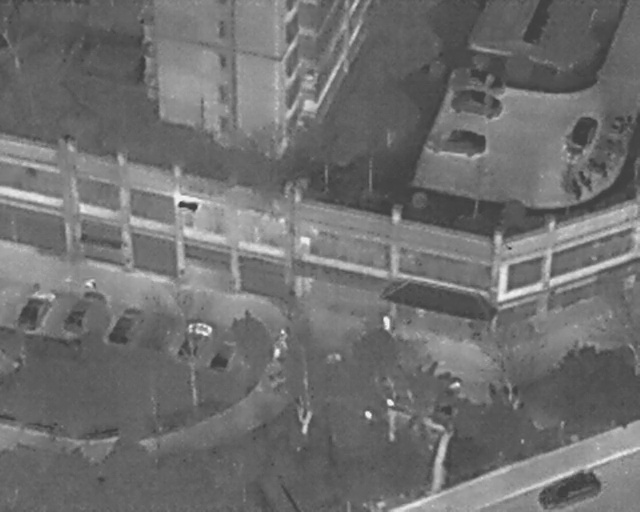Car: (533, 463, 604, 510), (11, 282, 59, 339), (61, 283, 109, 339), (103, 300, 148, 353), (172, 316, 216, 366), (207, 334, 243, 376)
Person: (383, 315, 392, 331), (86, 278, 96, 289)
